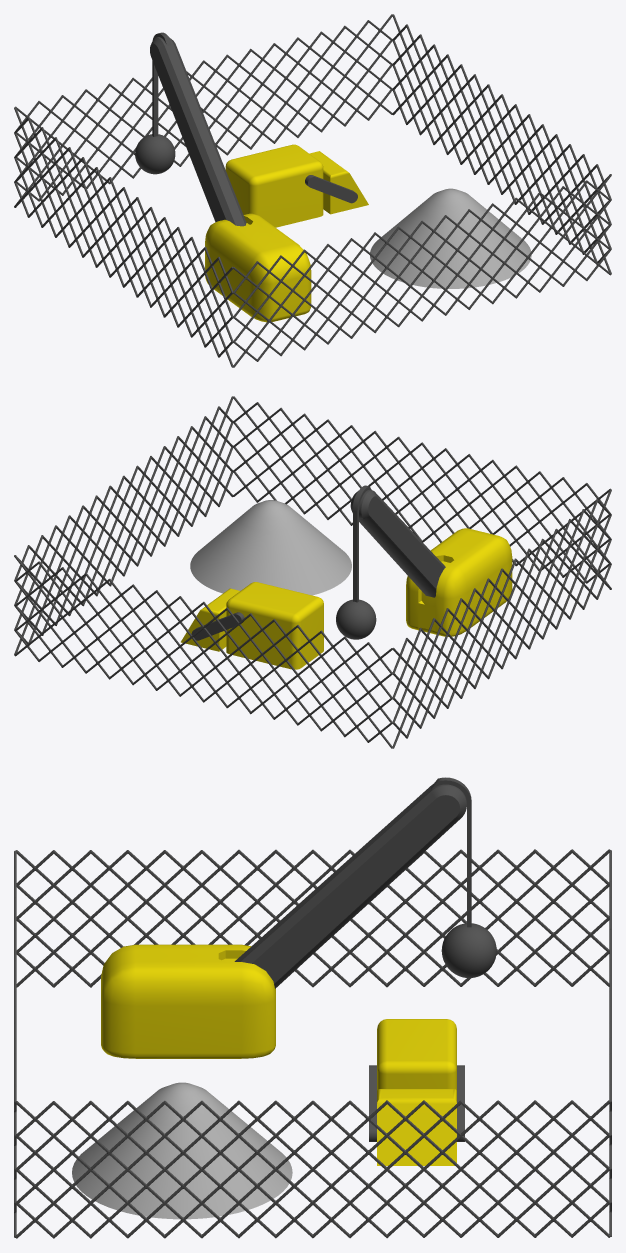
The model's file is fencewithstuff.fbx.
3 views of the same model, one above another, from view 1: azimuth 30°, elevation 25°; view 2: azimuth 150°, elevation 25°; view 3: azimuth 270°, elevation 25° (orthographic). The views are drawn at different scales.
Visible parts, largest first — view 1: pasted__group_pasted__pasted__pCube1, pCone1, polySurface4, pasted__pCube4, polySurface1, pCube5, polySurface3, polySurface2, pasted__pCylinder2; view 2: pasted__group_pasted__pasted__pCube1, pCone1, polySurface4, pasted__pCube4, polySurface1, polySurface3, polySurface2, pCube5, pasted__pCylinder2; view 3: pasted__group_pasted__pasted__pCube1, polySurface4, pCone1, polySurface1, pasted__pCube4, pCube5, polySurface3, polySurface2, pasted__pCylinder2.
Boxes of the visible parts, bbox=[...] form: pasted__group_pasted__pasted__pCube1: bbox=[14, 14, 611, 367]; pCone1: bbox=[370, 188, 531, 288]; polySurface4: bbox=[205, 213, 311, 322]; pasted__pCube4: bbox=[225, 144, 323, 227]; polySurface1: bbox=[152, 44, 246, 226]; pCube5: bbox=[309, 151, 368, 214]; polySurface3: bbox=[135, 134, 175, 174]; polySurface2: bbox=[150, 32, 175, 136]; pasted__pCylinder2: bbox=[305, 175, 357, 203]; pasted__group_pasted__pasted__pCube1: bbox=[14, 396, 611, 748]; pCone1: bbox=[190, 500, 351, 595]; polySurface4: bbox=[406, 528, 512, 636]; pasted__pCube4: bbox=[226, 582, 323, 669]; polySurface1: bbox=[359, 492, 445, 597]; polySurface3: bbox=[336, 599, 376, 639]; polySurface2: bbox=[350, 485, 378, 602]; pCube5: bbox=[181, 588, 239, 651]; pasted__pCylinder2: bbox=[191, 612, 244, 640]; pasted__group_pasted__pasted__pCube1: bbox=[14, 849, 611, 1238]; polySurface4: bbox=[101, 944, 275, 1058]; pCone1: bbox=[72, 1082, 292, 1219]; polySurface1: bbox=[234, 786, 460, 988]; pasted__pCube4: bbox=[377, 1019, 456, 1090]; pCube5: bbox=[377, 1089, 456, 1165]; polySurface3: bbox=[441, 923, 496, 977]; polySurface2: bbox=[431, 777, 471, 927]; pasted__pCylinder2: bbox=[369, 1065, 464, 1141].
Size of the model in its own units: 5.42 by 2.67 by 5.42.
